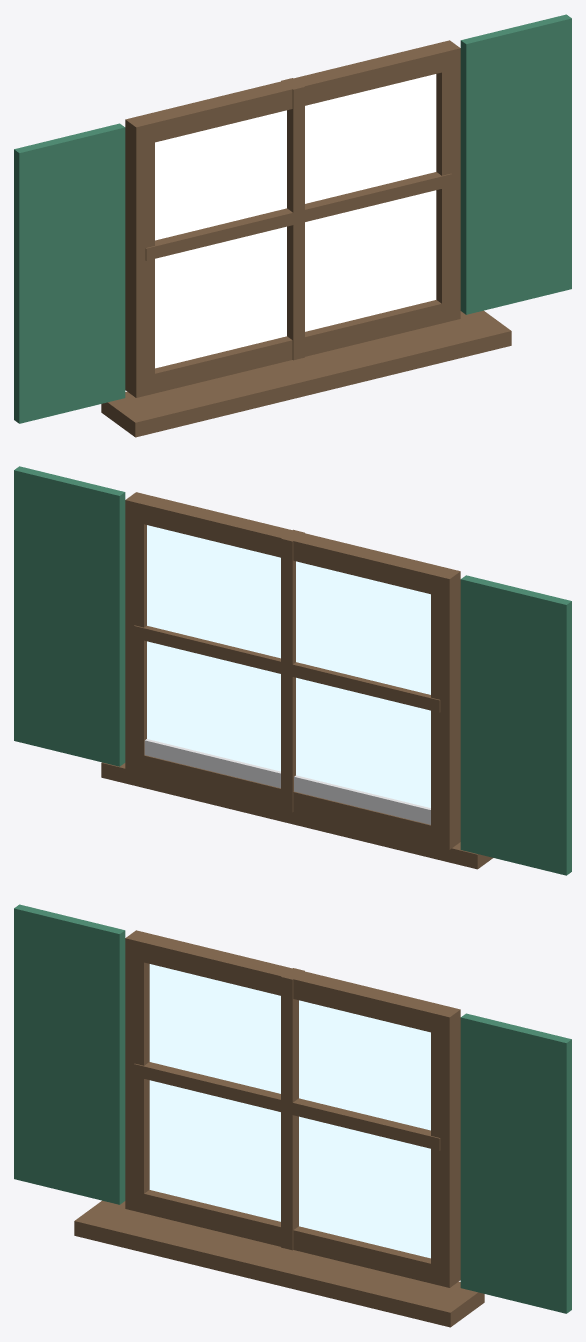
The model's file is prop_window.glb.
The picture shows the model from 3 angles, top to bottom: view 1: azimuth 30°, elevation 25°; view 2: azimuth 150°, elevation 25°; view 3: azimuth 330°, elevation 25°; orthographic projection.
Parts seen in each view (by area): view 1: Shutter.-1, Frame top, Glass; view 2: Shutter.-1, Glass, Frame top, Snow; view 3: Shutter.-1, Frame top, Glass.
Boxes of the visible parts, x1,y1,x2,y2 form: Shutter.-1: (14,14,571,423); Frame top: (101,40,511,437); Glass: (155,74,436,368); Shutter.-1: (14,466,571,875); Glass: (147,525,430,807); Frame top: (101,492,492,869); Snow: (144,739,430,824); Shutter.-1: (14,904,571,1313); Frame top: (74,930,484,1327); Glass: (149,964,430,1258).
Bounding box in the file's own units: 2.35 × 1.16 × 0.27.
